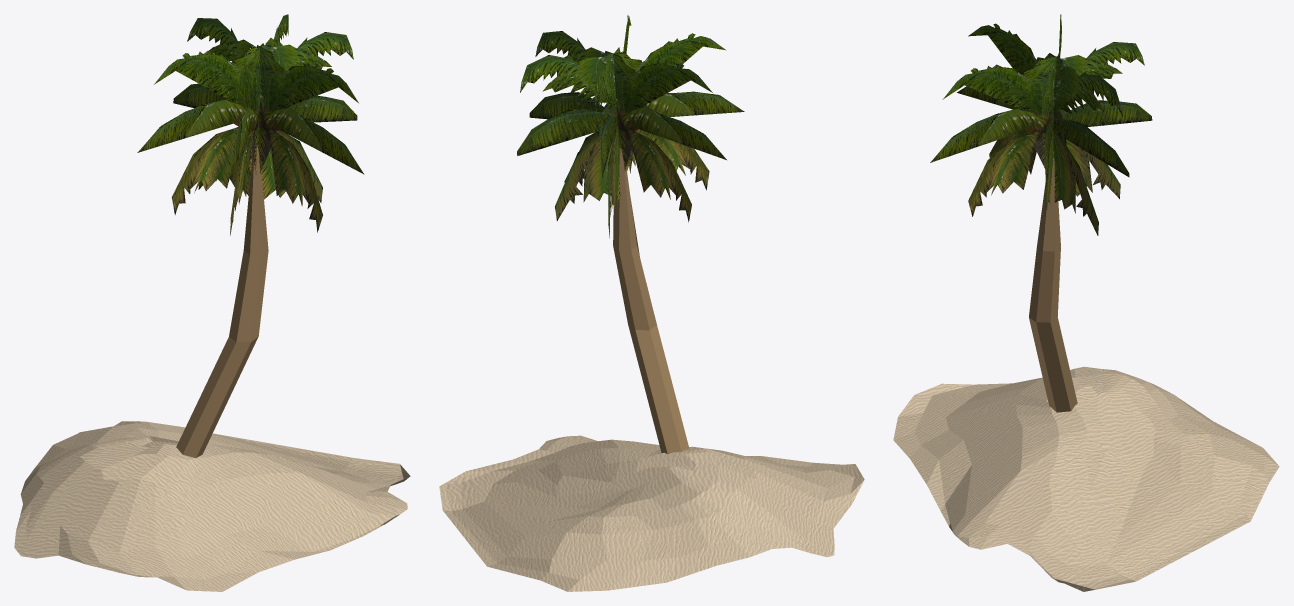
File: Lieu, Eva - Island.glb
The picture shows the model from 3 angles, left to right: view 1: azimuth 30°, elevation 25°; view 2: azimuth 150°, elevation 25°; view 3: azimuth 270°, elevation 25°; orthographic projection. The views are drawn at different scales.
Parts seen in each view (by area): view 1: Palm Tree Island; view 2: Palm Tree Island; view 3: Palm Tree Island.
Boxes of the visible parts, bbox=[...] form: Palm Tree Island: bbox=[14, 14, 410, 591]; Palm Tree Island: bbox=[439, 15, 864, 591]; Palm Tree Island: bbox=[893, 14, 1279, 591].
Bounding box in the file's own units: 4.54 × 5.36 × 3.98.
Materials: 3 (2 with a texture image).
